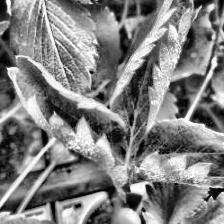Powdery Mildew Leaf: (6, 55, 129, 205), (108, 0, 202, 181), (127, 117, 224, 190)
